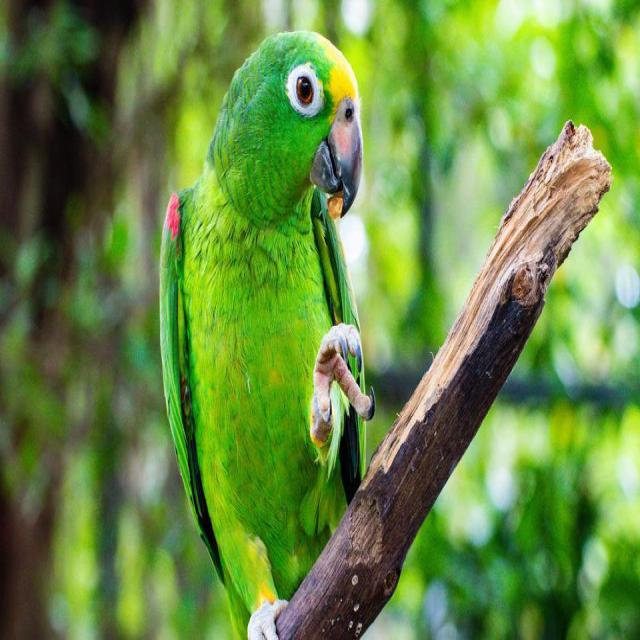Parrot: (163, 18, 374, 640)
